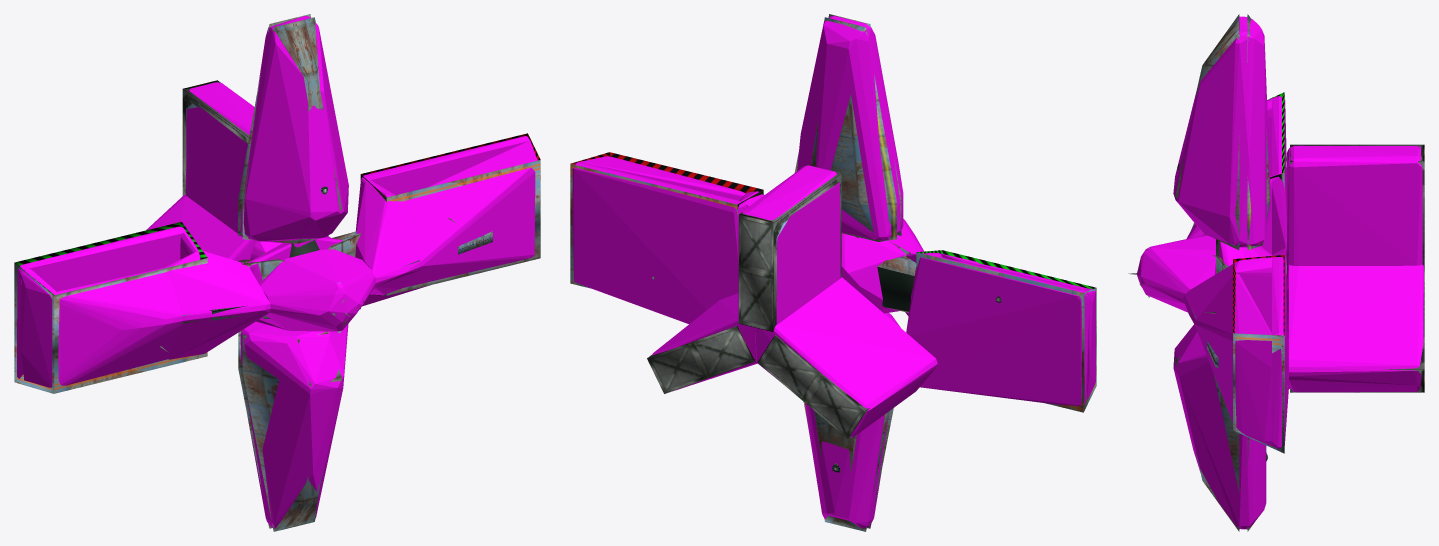
The model's file is garrison.glb.
3 renders of one model, left to right at view 1: azimuth 30°, elevation 25°; view 2: azimuth 150°, elevation 25°; view 3: azimuth 270°, elevation 25°, orthographic.
Parts seen in each view (by area): view 1: ss27, COL_CoACD010, COL_CoACD011, COL_CoACD017, COL_CoACD001, COL_CoACD009, COL_CoACD004, COL_CoACD012, COL_CoACD002, COL_CoACD015, COL_CoACD000, COL_CoACD016 (+2 smaller); view 2: ss27, COL_CoACD002, COL_CoACD016, COL_CoACD005, COL_CoACD010, COL_CoACD012, COL_CoACD011, COL_CoACD007, COL_CoACD014, COL_CoACD017, COL_CoACD000; view 3: COL_CoACD014, COL_CoACD012, COL_CoACD010, COL_CoACD011, COL_CoACD017, ss27, COL_CoACD009, COL_CoACD015, COL_CoACD016, COL_CoACD002, COL_CoACD007.
Boxes of the visible parts, bbox=[...] form: ss27: bbox=[14, 14, 540, 531]; COL_CoACD010: bbox=[237, 16, 348, 243]; COL_CoACD011: bbox=[240, 321, 348, 528]; COL_CoACD017: bbox=[402, 141, 537, 287]; COL_CoACD001: bbox=[57, 267, 183, 385]; COL_CoACD009: bbox=[259, 249, 375, 331]; COL_CoACD004: bbox=[165, 251, 270, 359]; COL_CoACD012: bbox=[186, 82, 254, 236]; COL_CoACD002: bbox=[17, 226, 185, 378]; COL_CoACD015: bbox=[355, 180, 421, 295]; COL_CoACD000: bbox=[21, 269, 60, 387]; COL_CoACD016: bbox=[356, 136, 529, 306]; ss27: bbox=[570, 14, 1096, 531]; COL_CoACD002: bbox=[906, 253, 1089, 405]; COL_CoACD016: bbox=[572, 161, 746, 323]; COL_CoACD005: bbox=[755, 277, 937, 437]; COL_CoACD010: bbox=[797, 16, 903, 240]; COL_CoACD012: bbox=[741, 165, 840, 324]; COL_CoACD011: bbox=[805, 313, 900, 528]; COL_CoACD007: bbox=[841, 233, 905, 313]; COL_CoACD014: bbox=[652, 293, 757, 390]; COL_CoACD017: bbox=[581, 156, 745, 200]; COL_CoACD000: bbox=[1083, 288, 1095, 400]; COL_CoACD014: bbox=[1289, 264, 1423, 392]; COL_CoACD012: bbox=[1287, 145, 1422, 265]; COL_CoACD010: bbox=[1173, 16, 1271, 247]; COL_CoACD011: bbox=[1173, 324, 1266, 529]; COL_CoACD017: bbox=[1195, 273, 1271, 446]; ss27: bbox=[1128, 14, 1424, 531]; COL_CoACD009: bbox=[1137, 235, 1215, 312]; COL_CoACD015: bbox=[1183, 257, 1271, 332]; COL_CoACD016: bbox=[1272, 257, 1288, 448]; COL_CoACD002: bbox=[1272, 96, 1286, 254]; COL_CoACD007: bbox=[1218, 241, 1271, 266].
Bounding box in the file's own units: 59.85 × 55.7 × 30.12.
3 materials, 2 textured.
